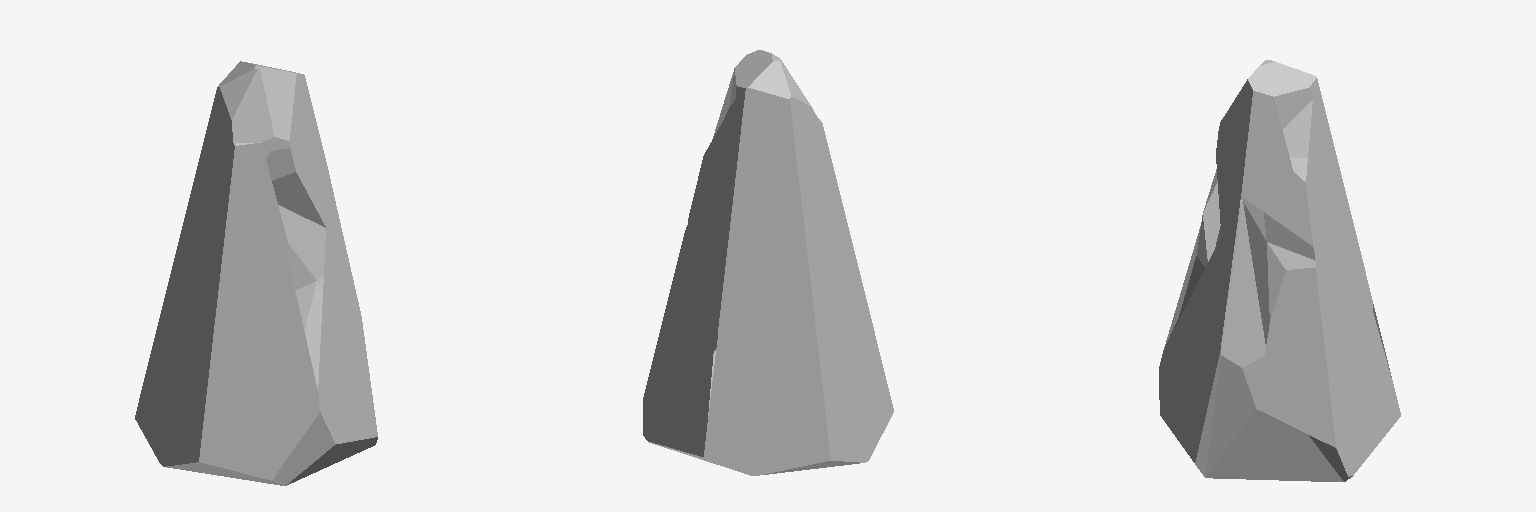
The model's file is crystal4.obj.
3 views of the same model, side by side, from view 1: azimuth 30°, elevation 25°; view 2: azimuth 150°, elevation 25°; view 3: azimuth 270°, elevation 25° (orthographic).
Visible parts, largest first — view 1: Cone.001_Cone; view 2: Cone.001_Cone; view 3: Cone.001_Cone.
Boxes of the visible parts, x1,y1,x2,y2 form: Cone.001_Cone: [135, 61, 377, 485]; Cone.001_Cone: [643, 50, 893, 475]; Cone.001_Cone: [1159, 60, 1400, 481].
Size of the model in its own units: 1.3 by 2.48 by 1.41.